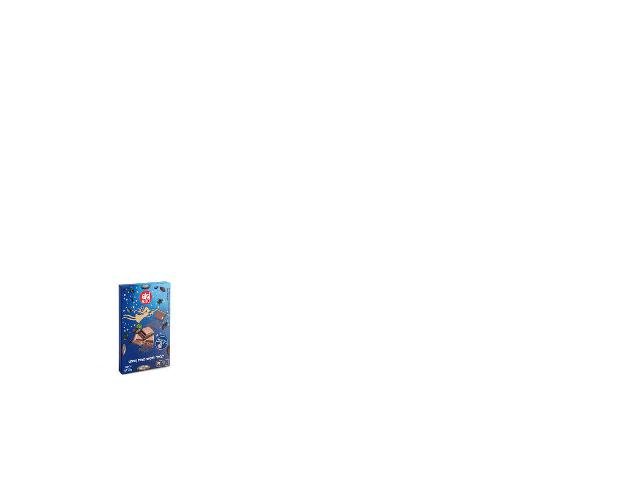chocolate: (112, 279, 177, 374)
